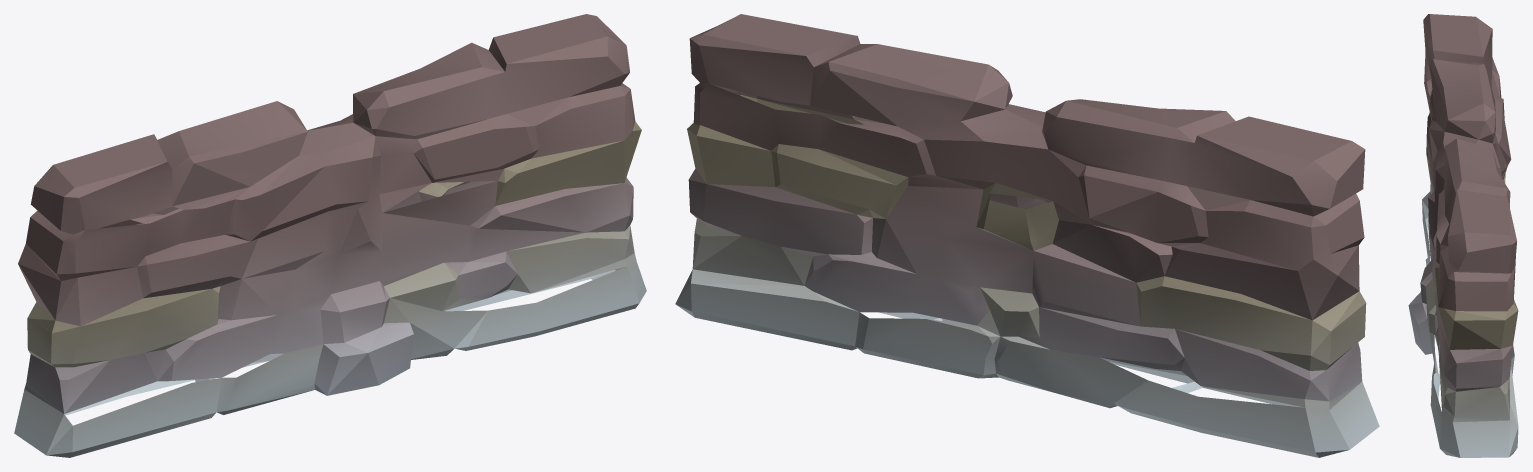
The model's file is Terrain_Stage2_Wall_1.fbx.
3 views of the same model, side by side, from view 1: azimuth 30°, elevation 25°; view 2: azimuth 150°, elevation 25°; view 3: azimuth 270°, elevation 25° (orthographic). The views are drawn at different scales.
Visible parts, largest first — view 1: terrain_building_401_3_LOD0 #1475445; view 2: terrain_building_401_3_LOD0 #1475445; view 3: terrain_building_401_3_LOD0 #1475445.
Part boxes in pixels (left/top/right/bottom): terrain_building_401_3_LOD0 #1475445: left=14, top=14, right=646, bottom=457; terrain_building_401_3_LOD0 #1475445: left=675, top=14, right=1379, bottom=457; terrain_building_401_3_LOD0 #1475445: left=1408, top=14, right=1518, bottom=457.
Bounding box in the file's own units: 1133 × 475 × 215.
1 material, 1 textured.
